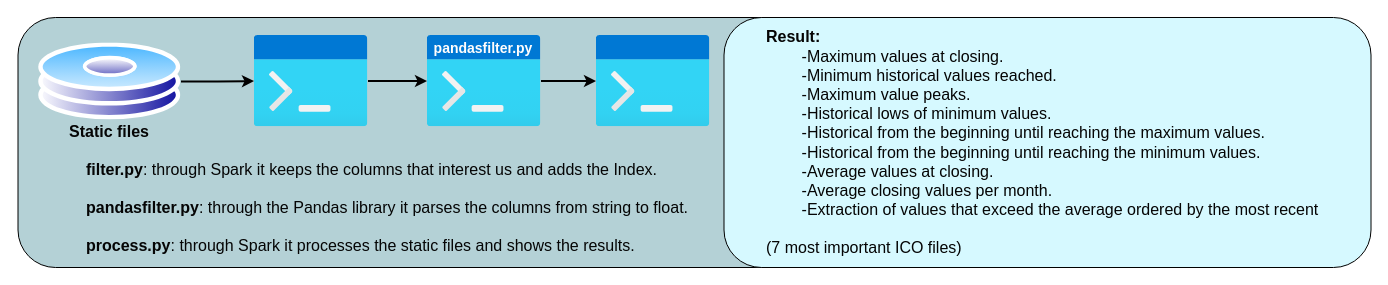
Some shapes in this 1388 by 285 pixel diagram are drawn without their labels. Here are the shapes that lost their labels. From the top down, the centre of each, then its label:
the point at 311,80: filter.py
the point at 653,80: process.py
